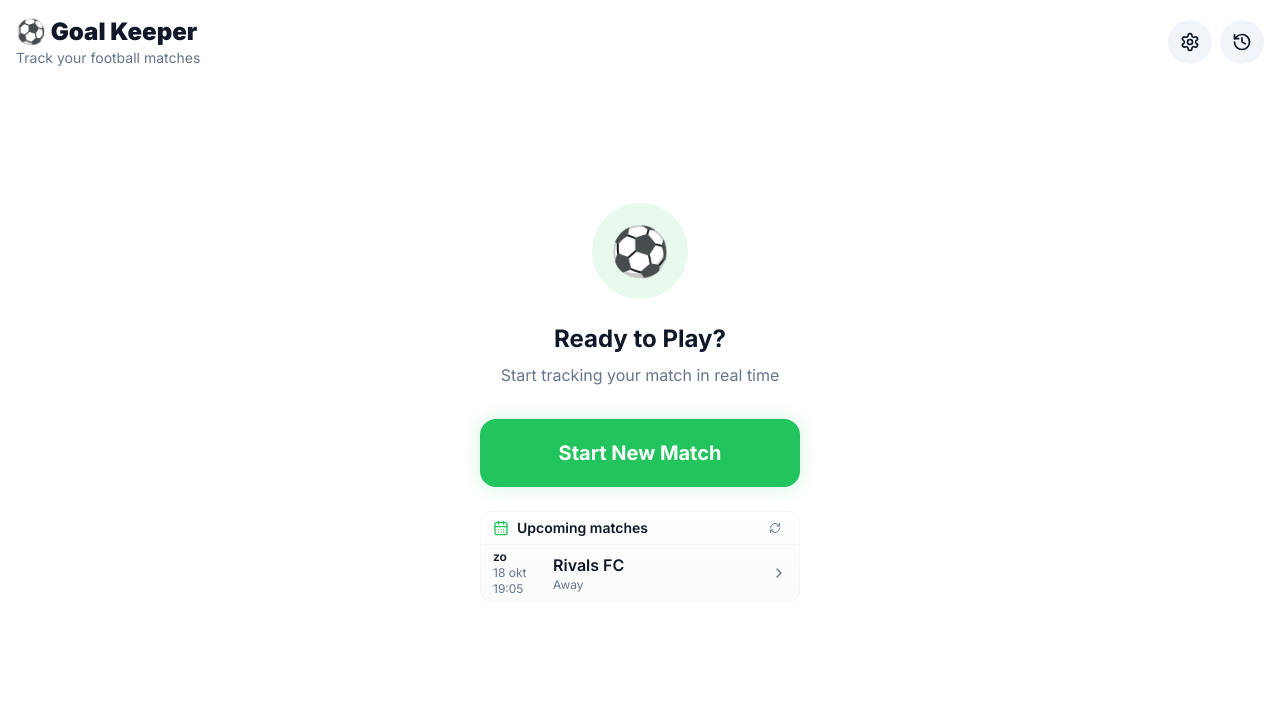
Test: Index match flow › prefills and starts a match selected from the upcoming calendar list
Click the text "Rivals FC" at (589, 564), box [553,554,624,574]
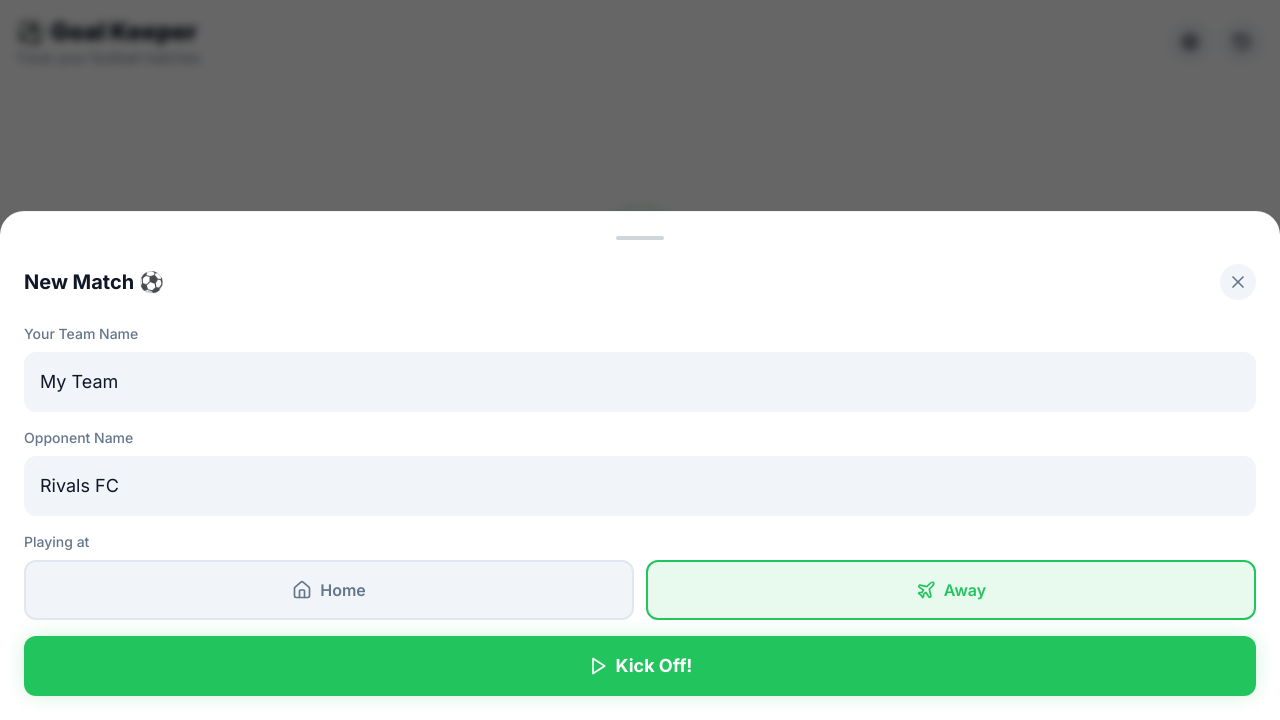
Result: the dropdown with placeholder "Opponent" holds "Rivals FC" at [24,456,1256,516]
Click the button "Kick Off!" at (640, 666), box [24,636,1256,696]
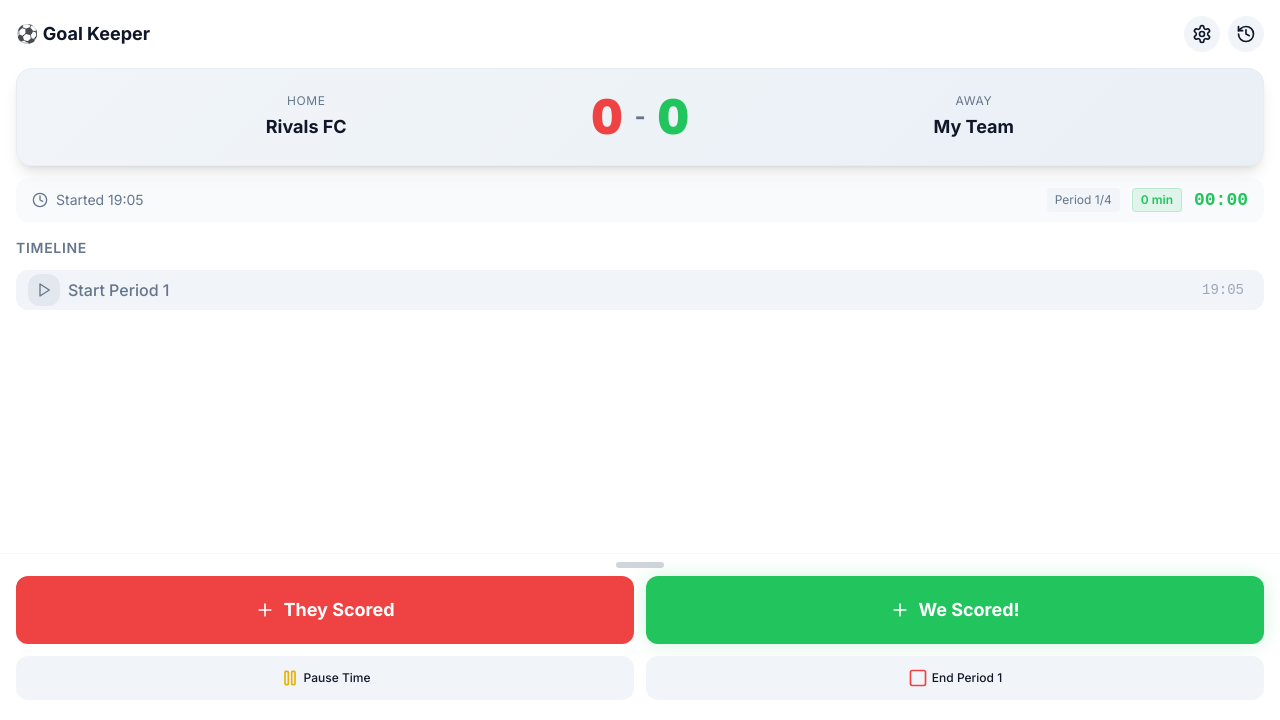
Expected: the button "Rivals FC" is shown, [41,113,572,141]
Result: the heading "⚽ Goal Keeper" is shown at [16,20,150,48]
